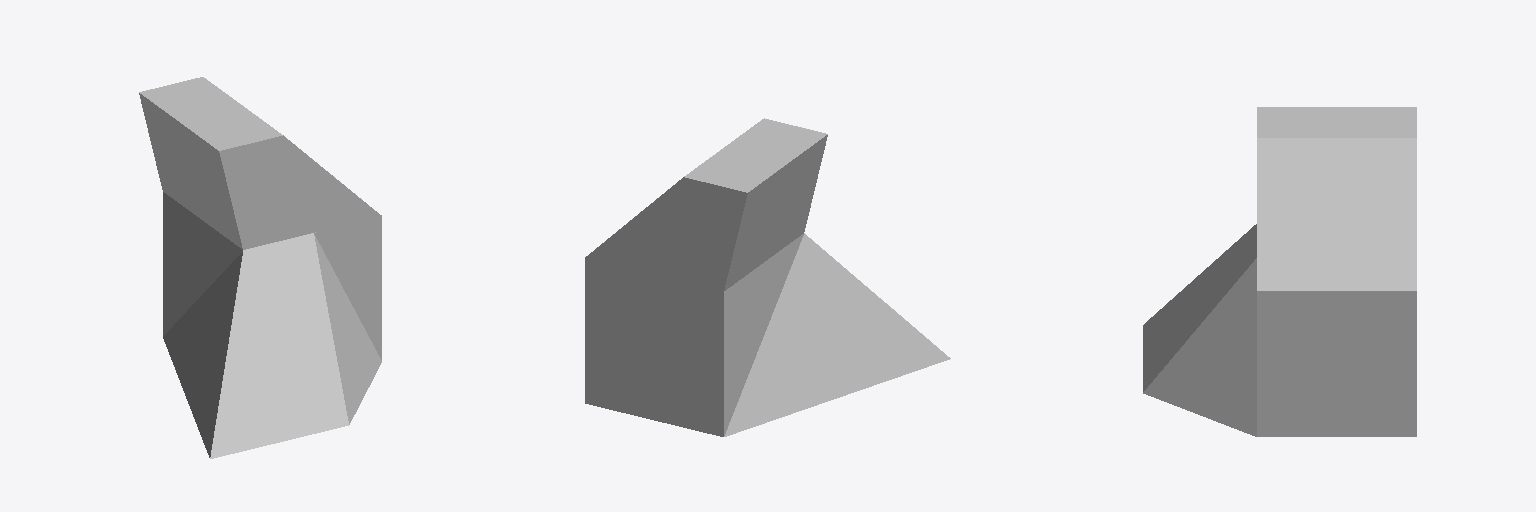
File: small_sculpture.obj
3 views of the same model, side by side, from view 1: azimuth 30°, elevation 25°; view 2: azimuth 150°, elevation 25°; view 3: azimuth 270°, elevation 25° (orthographic).
Parts seen in each view (by area): view 1: Cube; view 2: Cube; view 3: Cube.
Part boxes in pixels (x1,y1,x2,y2): Cube: (139, 77, 381, 458); Cube: (585, 118, 950, 436); Cube: (1143, 107, 1416, 436).
Size of the model in its own units: 3.29 by 3.44 by 3.42.